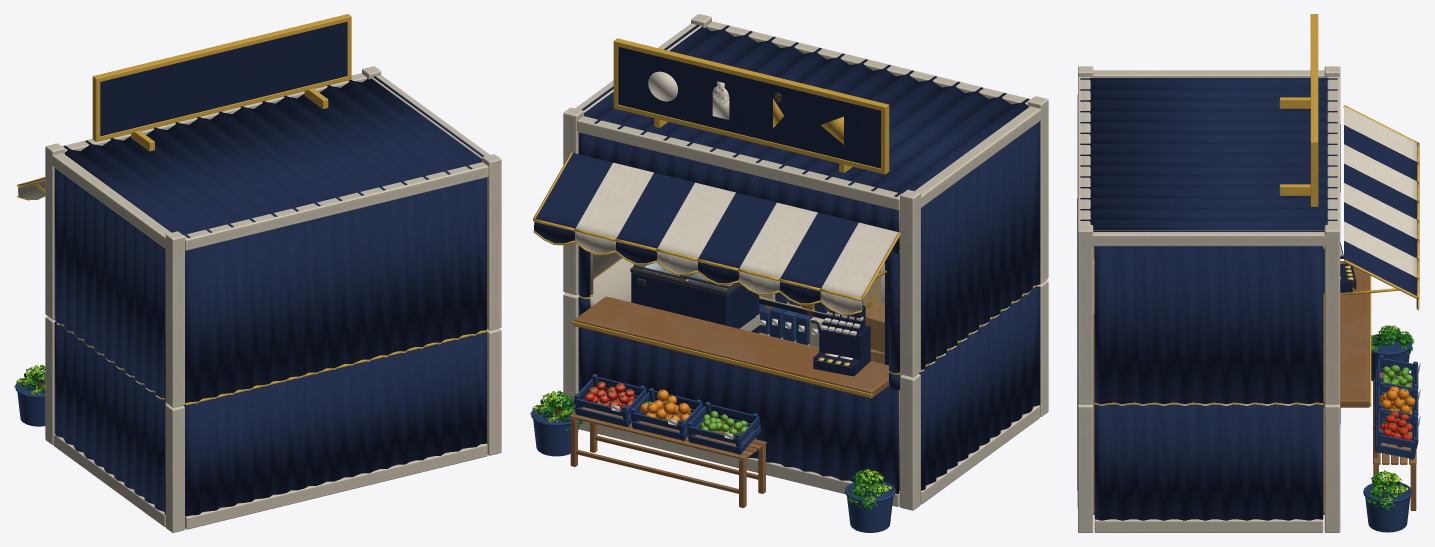
Rendered from Era3_Conteiner.fbx.
The picture shows the model from 3 angles, left to right: view 1: azimuth 30°, elevation 25°; view 2: azimuth 150°, elevation 25°; view 3: azimuth 270°, elevation 25°; orthographic projection. The views are drawn at different scales.
Parts seen in each view (by area): view 1: CUT_ERA3_ShellTop, ERA3_Shell, CUT_ERA3_Sign, ERA3_Plants; view 2: CUT_ERA3_ShellTop, ERA3_Shell, CUT_ERA3_Awning, CUT_ERA3_Sign, ERA3_Produce, ERA3_Counter, ERA3_Dairy, ERA3_Plants, ERA3_Register, ERA3_Shelf, ERA3_Stock; view 3: CUT_ERA3_ShellTop, ERA3_Shell, CUT_ERA3_Awning, ERA3_Produce, ERA3_Counter, ERA3_Plants, CUT_ERA3_Sign, ERA3_Register, ERA3_Shelf.
Boxes of the visible parts, x1,y1,x2,y2 form: CUT_ERA3_ShellTop: (45, 66, 501, 407); ERA3_Shell: (45, 316, 501, 532); CUT_ERA3_Sign: (92, 14, 351, 151); ERA3_Plants: (14, 364, 45, 426); CUT_ERA3_ShellTop: (563, 14, 1048, 377); ERA3_Shell: (563, 257, 1048, 510); CUT_ERA3_Awning: (533, 152, 900, 315); CUT_ERA3_Sign: (613, 38, 889, 174); ERA3_Produce: (569, 374, 766, 507); ERA3_Counter: (572, 296, 891, 398); ERA3_Dairy: (630, 262, 759, 333); ERA3_Plants: (530, 390, 895, 532); ERA3_Register: (810, 305, 870, 376); ERA3_Shelf: (759, 269, 880, 348); ERA3_Stock: (865, 302, 884, 364); CUT_ERA3_ShellTop: (1077, 66, 1340, 404); ERA3_Shell: (1077, 373, 1340, 532); CUT_ERA3_Awning: (1343, 105, 1419, 310); ERA3_Produce: (1373, 355, 1420, 510); ERA3_Counter: (1323, 261, 1371, 407); ERA3_Plants: (1363, 325, 1413, 532); CUT_ERA3_Sign: (1279, 14, 1318, 206); ERA3_Register: (1323, 242, 1356, 293); ERA3_Shelf: (1093, 246, 1094, 508).
Size of the model in its own units: 3.14 by 3.2 by 2.67.
Materials: 2 (1 with a texture image).
